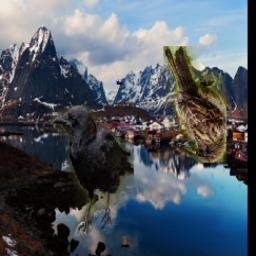Crow: (52, 107, 135, 237), (112, 34, 129, 85)
Sparrow: (163, 46, 227, 163)
